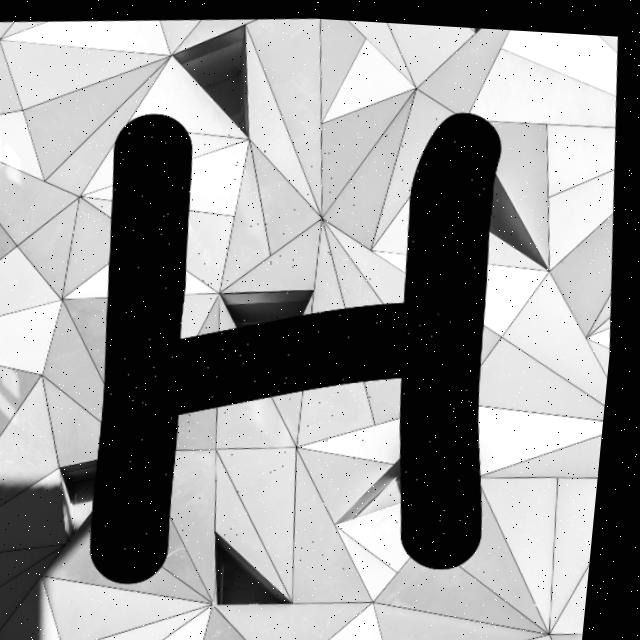H: (101, 107, 502, 580)
